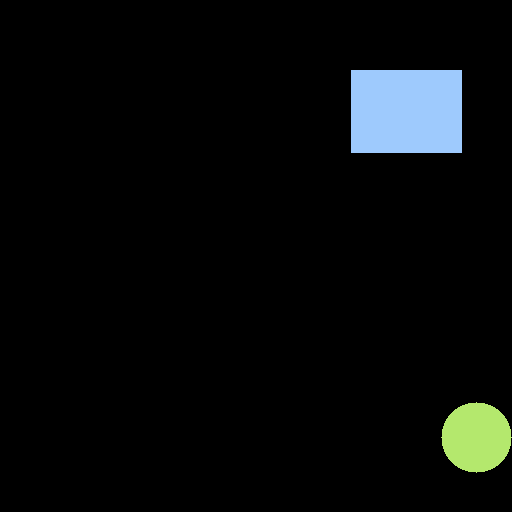circle: (441, 402, 511, 472)
rectangle: (351, 70, 461, 152)
